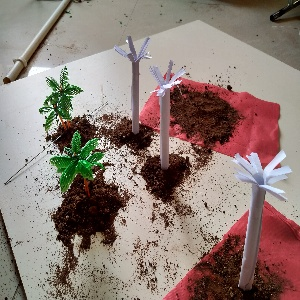plant: (50, 134, 102, 214), (31, 67, 85, 130)
weed: (224, 143, 293, 300), (110, 25, 150, 145), (148, 55, 177, 172)
